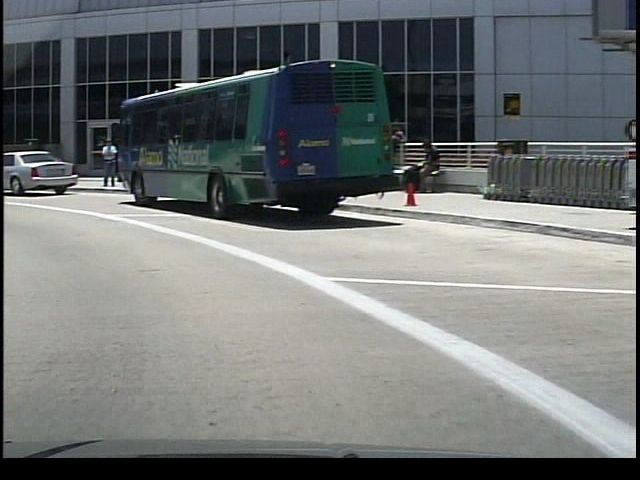person: (402, 135, 437, 198), (94, 137, 116, 189)
